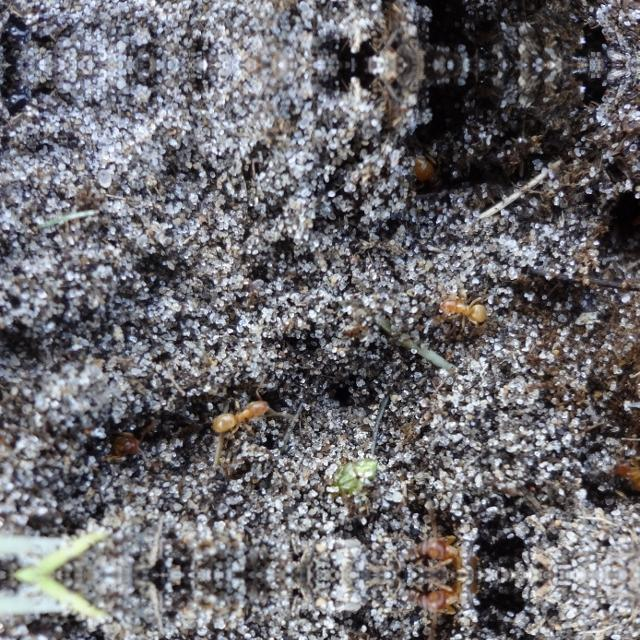Lasius: (203, 386, 275, 444), (418, 518, 492, 574), (418, 576, 492, 632), (436, 281, 498, 339)
